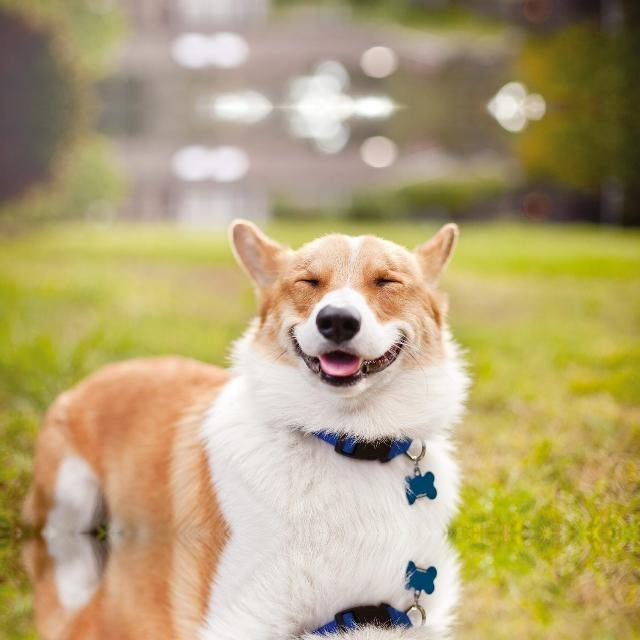dog: (220, 189, 482, 443), (220, 0, 481, 23), (220, 623, 481, 640)
